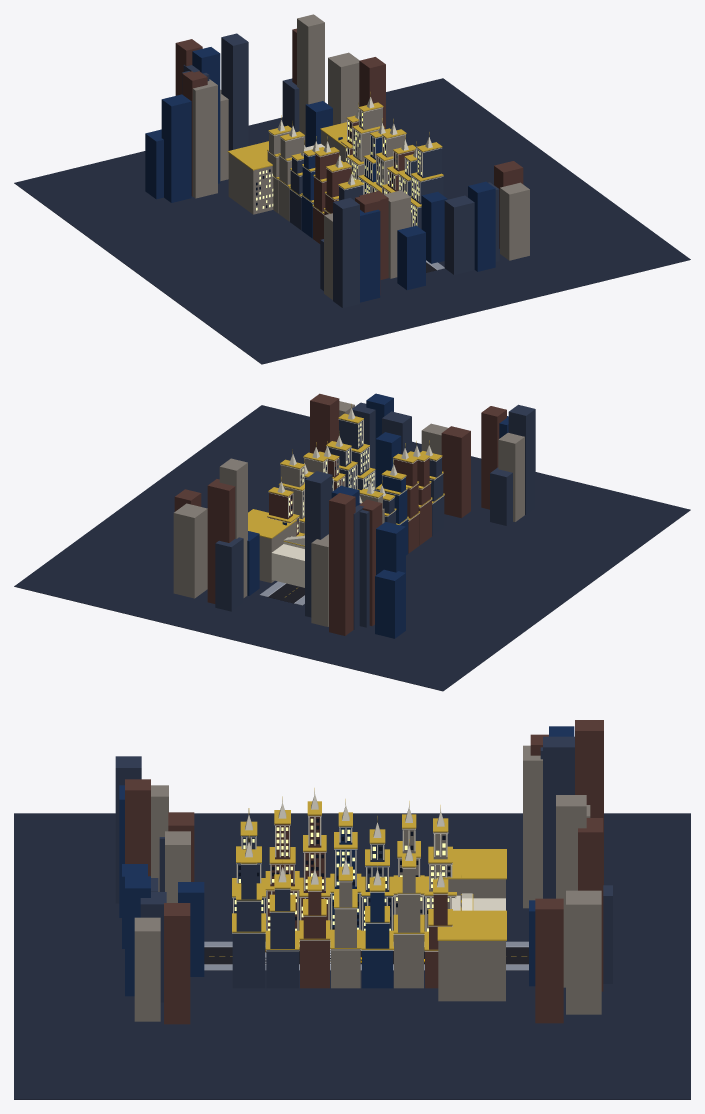
The model's file is education.glb.
The picture shows the model from 3 angles, top to bottom: view 1: azimuth 30°, elevation 25°; view 2: azimuth 150°, elevation 25°; view 3: azimuth 270°, elevation 25°; orthographic projection. The views are drawn at different scales.
Visible parts, largest first — view 1: ground, backfar.002, backfar, backfar.001, backfar.003, cornice, cornice2, wingwins; view 2: ground, backfar.003, backfar.001, backfar.002, backfar, cornice, cornice2, body, road; view 3: ground, backfar.002, backfar.003, backfar.001, cornice, backfar, cornice2, wingwins, road, body, planter, wingwins.001.
Boxes of the visible parts, x1,y1,x2,y2 form: ground: (14, 78, 690, 364); backfar.002: (192, 14, 529, 299); backfar: (145, 47, 495, 302); backfar.001: (182, 33, 499, 307); backfar.003: (175, 28, 523, 295); cornice: (227, 92, 443, 213); cornice2: (267, 97, 443, 226); wingwins: (256, 113, 421, 225); ground: (14, 405, 690, 691); backfar.003: (174, 393, 506, 635); backfar.001: (215, 402, 535, 629); backfar.002: (173, 401, 524, 626); backfar: (247, 393, 508, 638); cornice: (248, 403, 444, 538); cornice2: (267, 408, 444, 535); body: (271, 535, 304, 587); road: (268, 583, 304, 603); ground: (14, 813, 690, 1099); backfar.002: (134, 745, 601, 1021); backfar.003: (125, 720, 603, 1024); backfar.001: (115, 736, 612, 1002); cornice: (232, 788, 506, 950); backfar: (119, 726, 574, 996); cornice2: (232, 794, 456, 951); wingwins: (234, 818, 449, 931); road: (204, 947, 528, 964); body: (451, 893, 505, 910); planter: (204, 941, 528, 970); wingwins.001: (238, 818, 450, 929).
Size of the model in its own units: 260 by 79.2 by 260.
